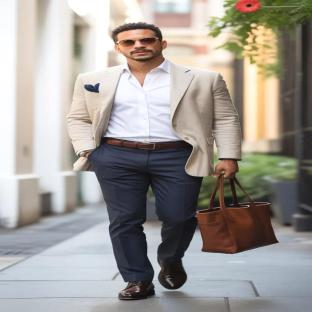Human: (68, 22, 242, 300)
